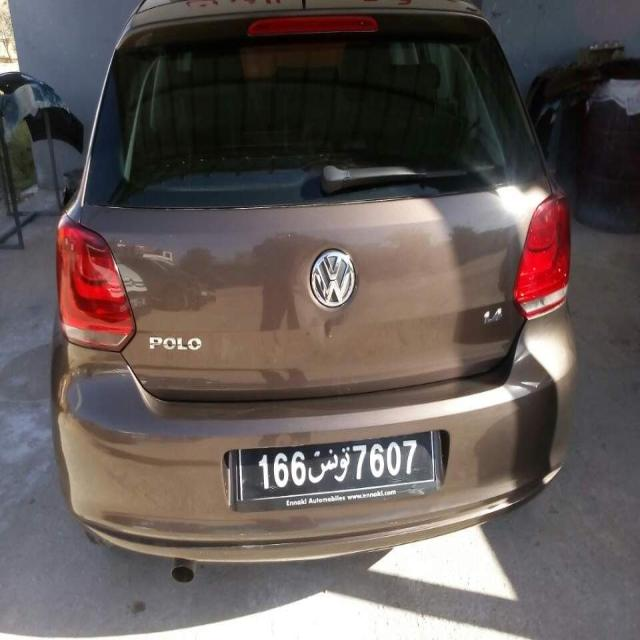LP: (235, 426, 437, 501)
